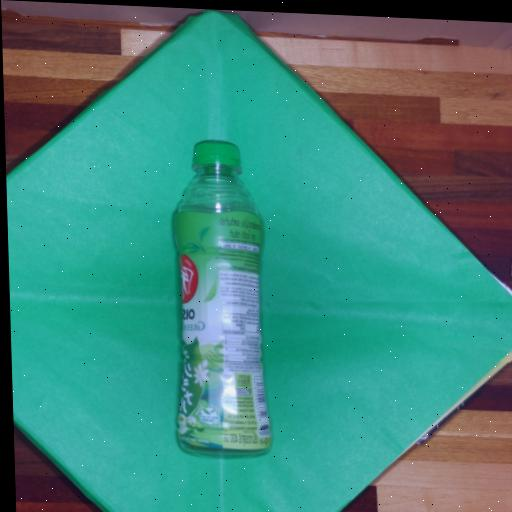bottle: (168, 138, 273, 458)
